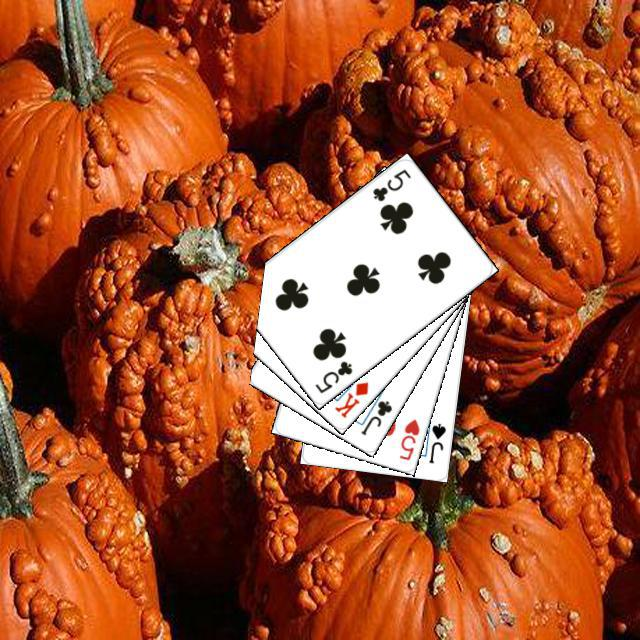5c: (367, 164, 413, 203), (310, 356, 354, 395)
5h: (394, 414, 421, 462)
Jc: (356, 395, 394, 437)
Js: (424, 418, 447, 465)
Kd: (329, 377, 370, 420)
